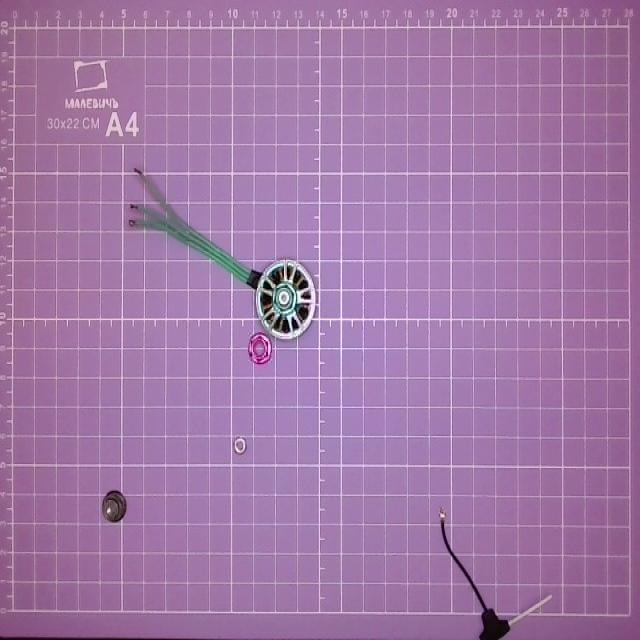antenna: (436, 506, 554, 640)
motor: (125, 168, 317, 341)
screw_M3: (232, 431, 248, 460)
screw_M5: (100, 486, 129, 526), (245, 331, 272, 363)
